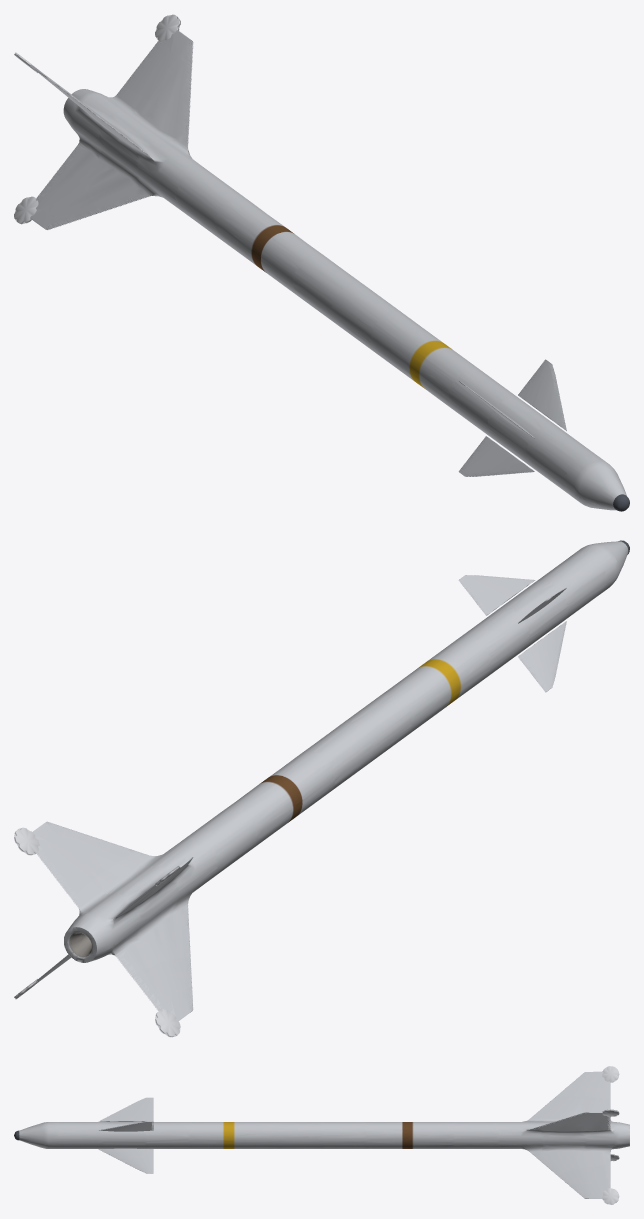
Rendered from aim9m.glb.
3 views of the same model, one above another, from view 1: azimuth 30°, elevation 25°; view 2: azimuth 150°, elevation 25°; view 3: azimuth 270°, elevation 25° (orthographic). The views are drawn at different scales.
Visible parts, largest first — view 1: airframe, fsim:elevator+rudder:1@-20,20 (×2); view 2: airframe, fsim:elevator+rudder:1@-20,20 (×2); view 3: airframe, fsim:elevator+rudder:-1@-20,20 (×2), fsim:rolleron:0.04 (×2), fsim:elevator+rudder:1@-20,20.
Boxes of the visible parts, x1,y1,x2,y2 form: airframe: (30,30,629,511); fsim:elevator+rudder:1@-20,20 (×2): (458,359,566,476); airframe: (32,540,629,1021); fsim:elevator+rudder:1@-20,20 (×2): (458,575,566,692); airframe: (14,1071,629,1198); fsim:elevator+rudder:-1@-20,20 (×2): (98,1097,153,1173); fsim:rolleron:0.04 (×2): (602,1066,619,1204); fsim:elevator+rudder:1@-20,20: (98,1121,153,1131).
Size of the model in its own units: 0.4907 by 0.4907 by 2.87.
Materials: 6 (1 with a texture image).
